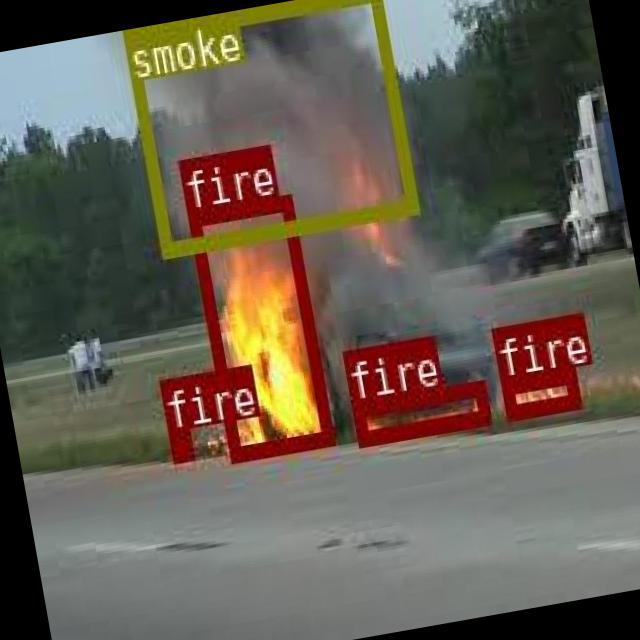fire: (186, 194, 330, 461), (348, 377, 488, 443), (499, 366, 578, 418), (165, 427, 192, 461)
smoke: (121, 0, 415, 253)
